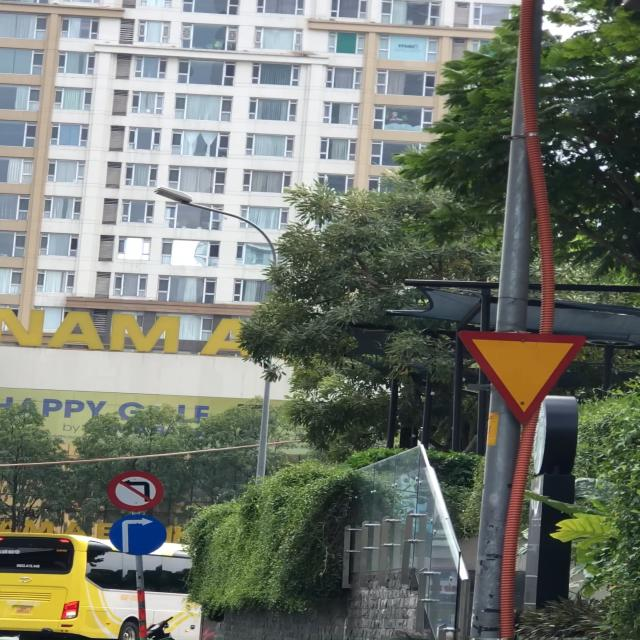Bien bao cam re trai: (107, 468, 171, 514)
Bien bao giao nhau voi duong uu tien: (452, 327, 592, 427)
Bien bao huong di phai theo: (108, 513, 170, 557)
